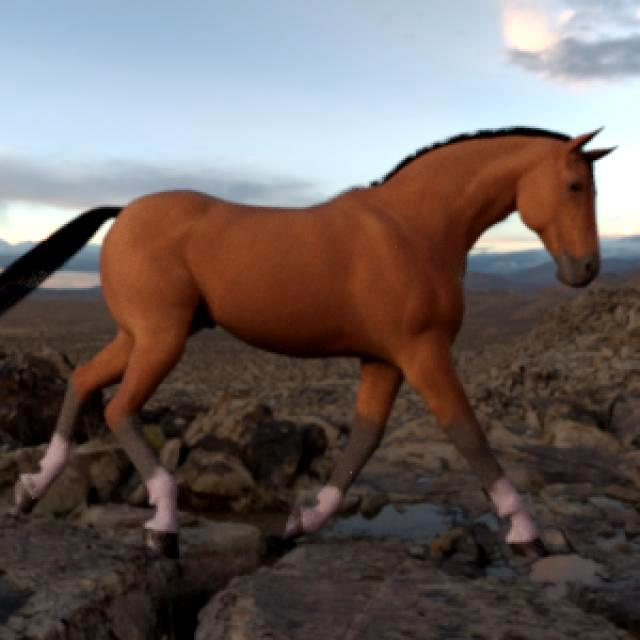horse: (0, 128, 615, 556)
